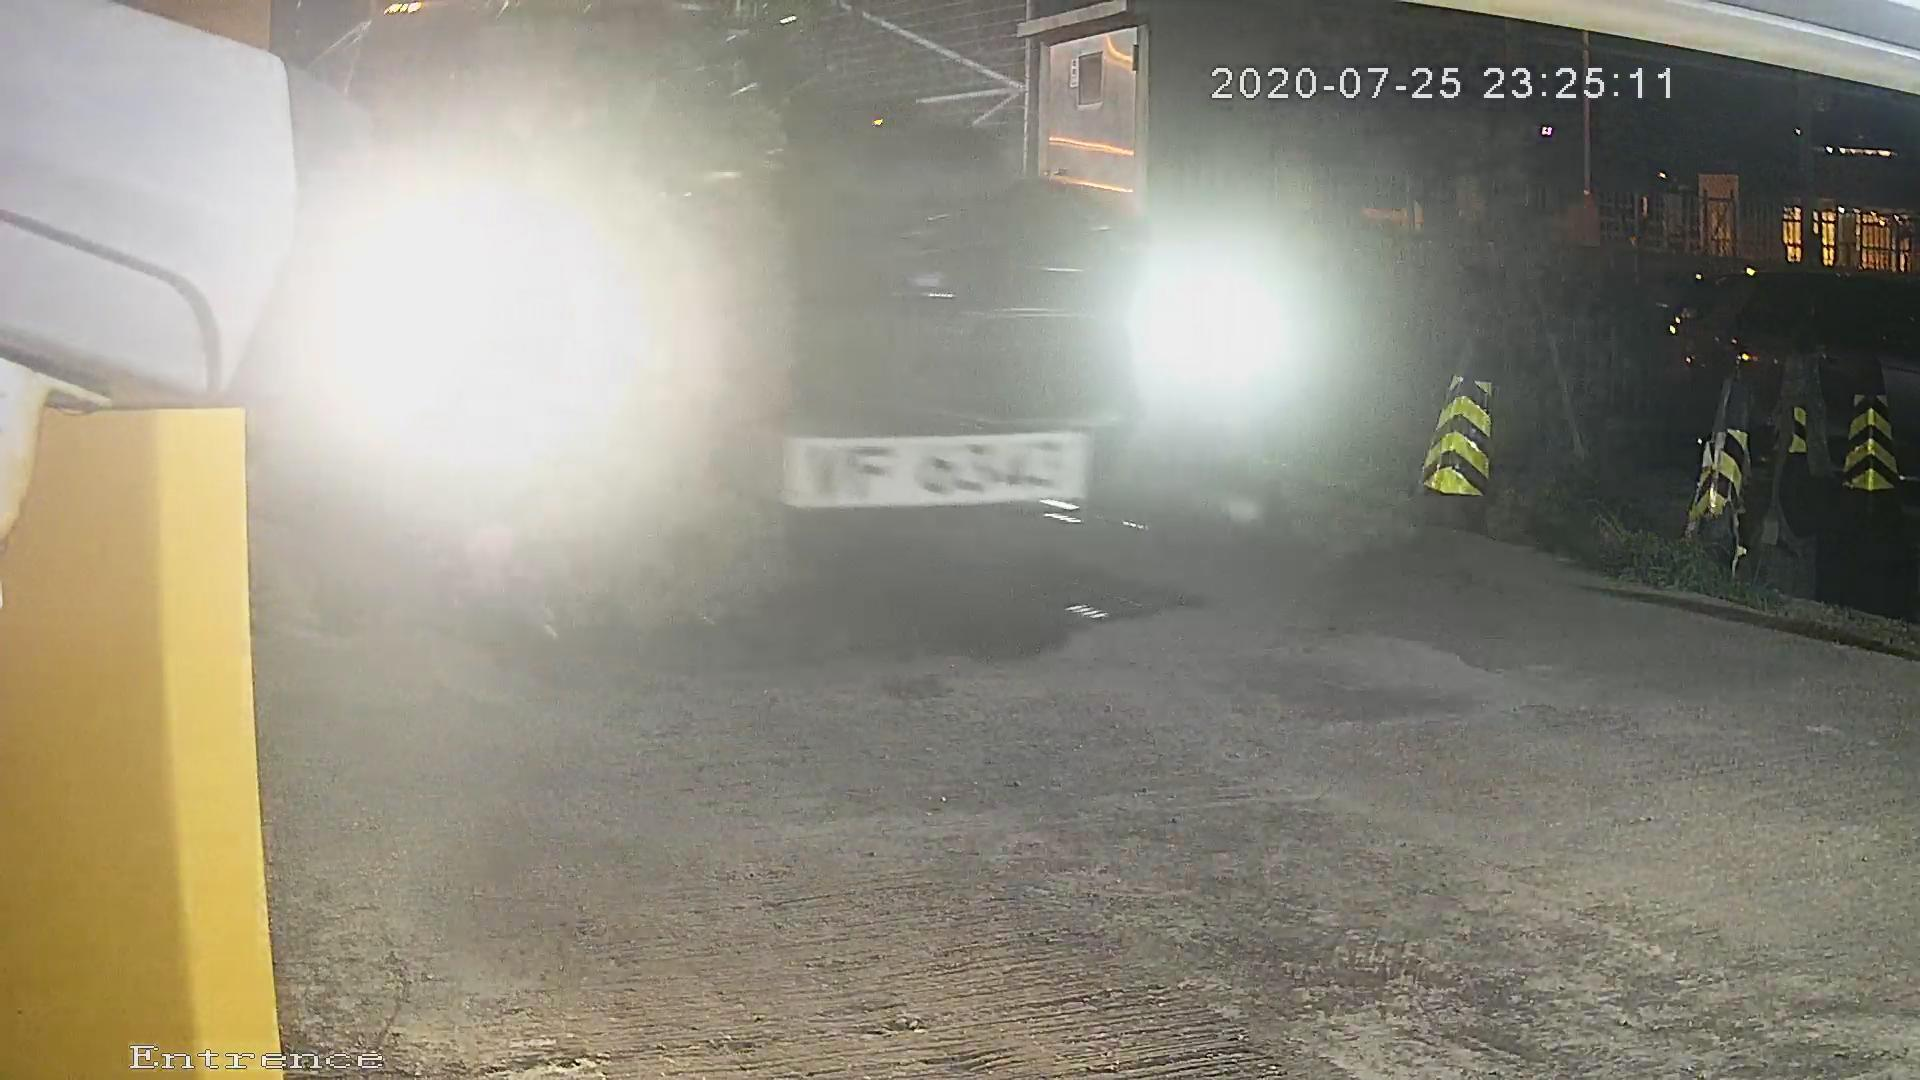privatecar: (164, 15, 1389, 655)
